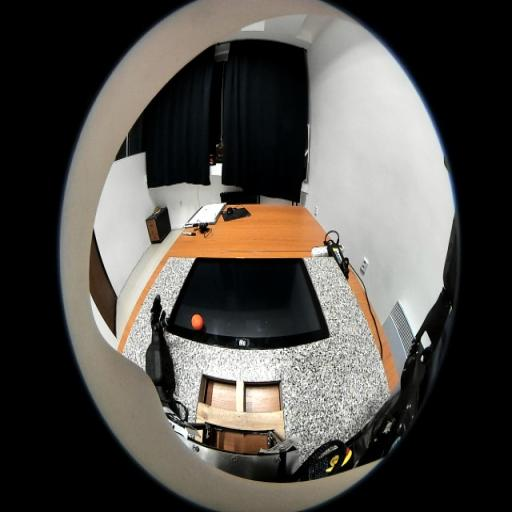LeftHand: (150, 314, 163, 334)
Orange: (191, 313, 204, 331)
